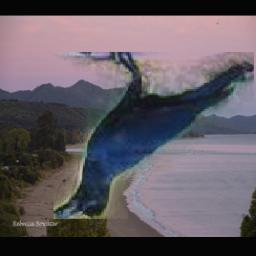Crow: (55, 53, 255, 220)
